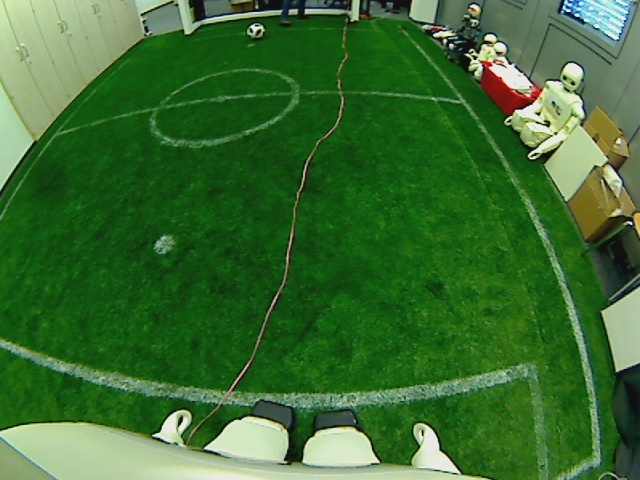ball: (246, 22, 265, 39)
